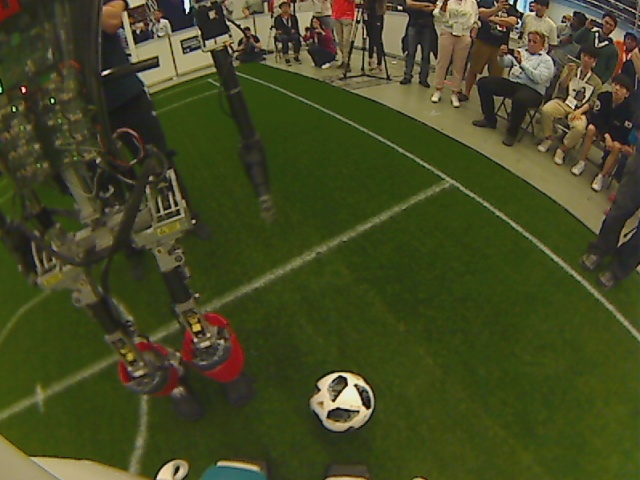ball: (305, 370, 378, 435)
robot: (114, 305, 250, 412)
